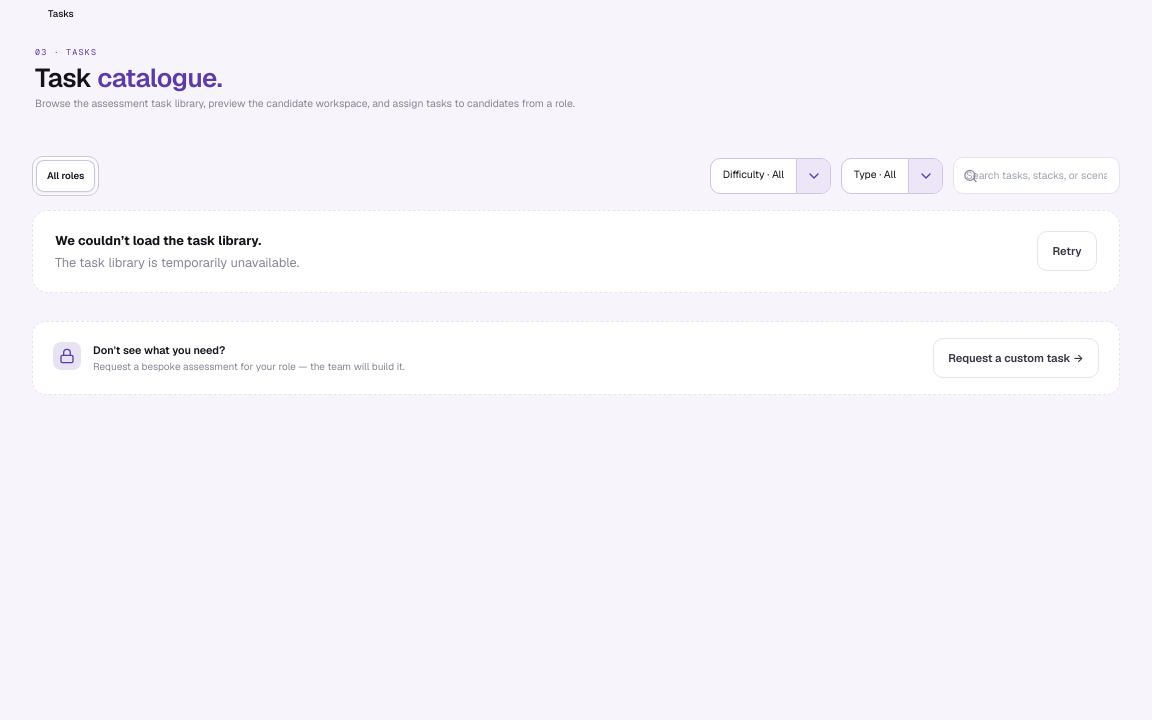
Test case: TasksPage › shows a recoverable error instead of an empty library when loading fails
This screenshot has width=1152, height=720.
Expected: the message shows "We couldn’t load the task library.", [55,232,261,249]
Expected: the message shows "The task library is temporarily unavailable.", [55,254,299,271]
Click the button "Retry".
click(1067, 252)  # box [1037,232,1097,272]
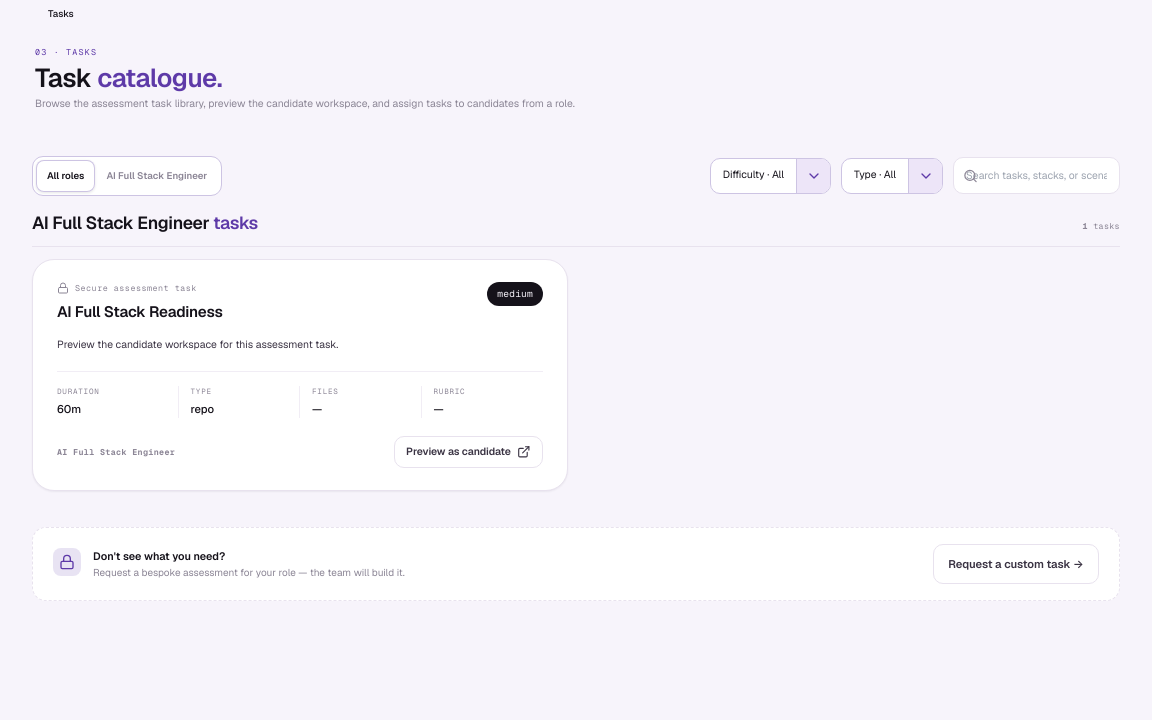
Result: the heading "AI Full Stack Readiness" is shown at [57,301,223,324]
Result: the message "We couldn’t load the task library. The task library is temporarily unavailable." is gone
